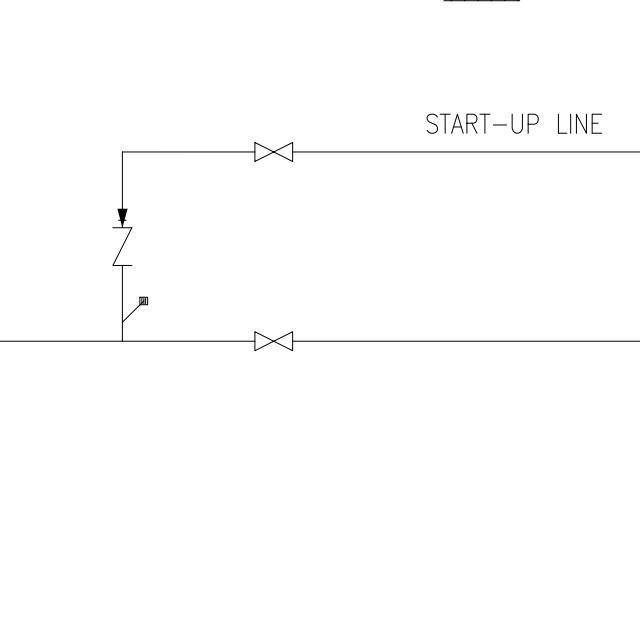GV: (250, 139, 299, 166), (251, 328, 297, 352)
